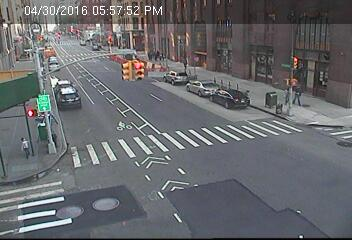neg: (315, 34, 337, 63), (67, 122, 86, 147), (172, 152, 190, 176), (317, 83, 335, 107), (114, 154, 131, 176), (217, 81, 232, 102), (79, 74, 94, 94), (119, 89, 132, 107), (225, 142, 238, 159), (238, 41, 250, 57), (300, 125, 312, 141), (36, 85, 48, 100), (190, 96, 202, 111), (94, 45, 105, 60), (269, 39, 280, 54), (125, 25, 135, 38), (31, 51, 40, 63), (62, 44, 70, 54)
pos: (291, 83, 307, 105), (16, 137, 30, 154), (279, 86, 291, 102), (180, 58, 189, 69)
